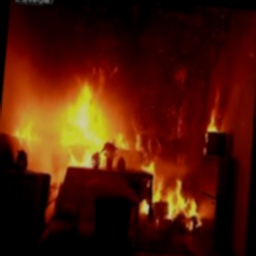fire: (0, 19, 243, 234)
